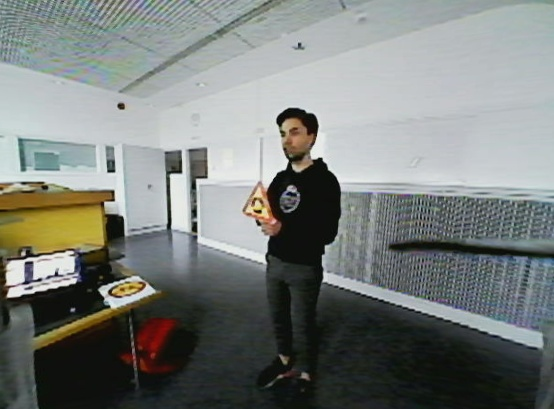roundabout_warning: (240, 179, 279, 226)
